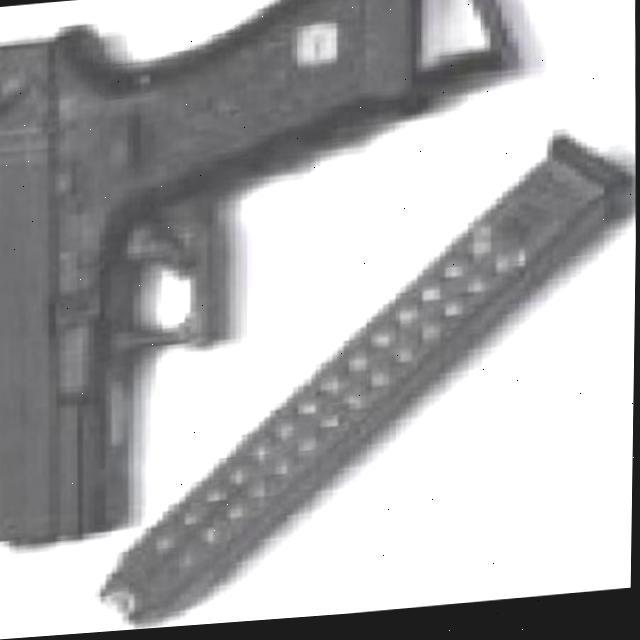gun: (0, 0, 515, 551)
